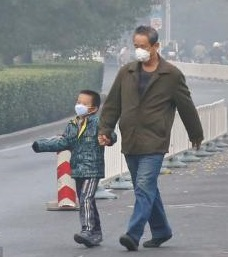person: (96, 24, 208, 253), (31, 87, 118, 249), (209, 40, 224, 65), (162, 41, 178, 61), (191, 41, 206, 62), (177, 41, 192, 62)
